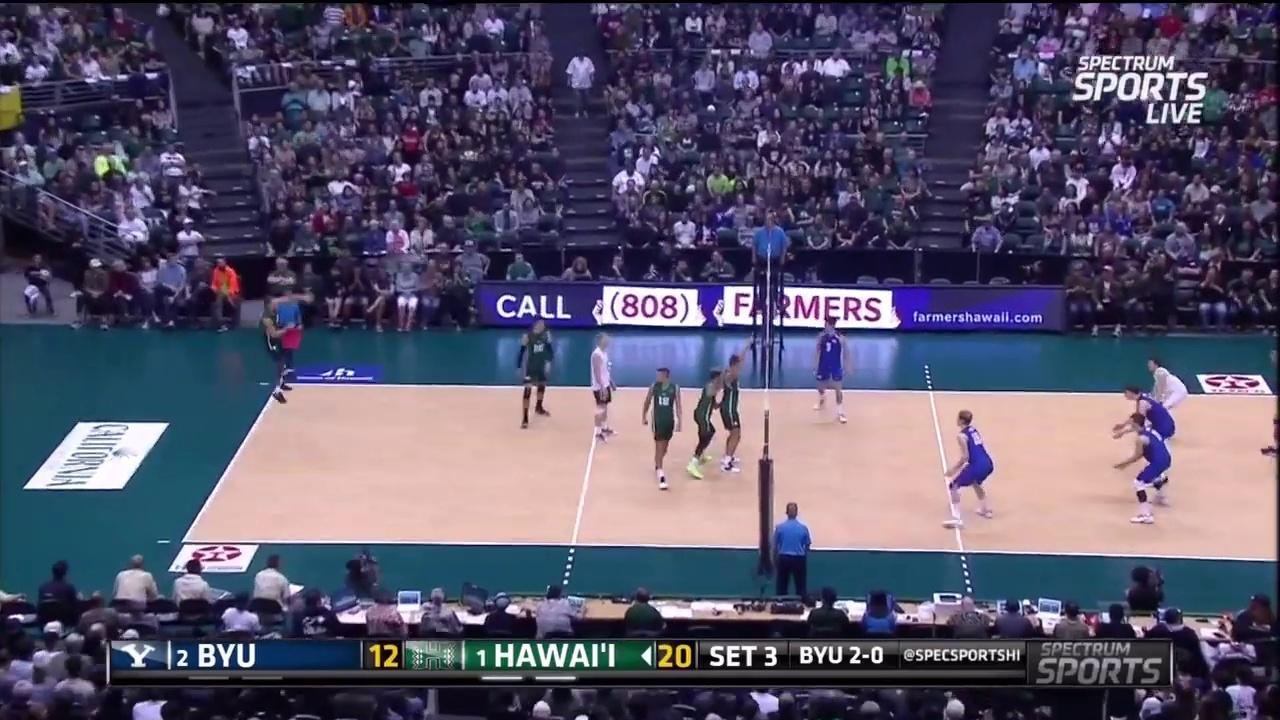player: (1120, 411, 1178, 529), (944, 413, 998, 523), (640, 367, 681, 488), (256, 292, 297, 407), (1117, 382, 1180, 456), (517, 321, 554, 428), (1133, 351, 1192, 418), (813, 317, 848, 419), (691, 365, 721, 479), (725, 348, 751, 473), (587, 338, 616, 436)
refree: (744, 204, 790, 306), (771, 498, 815, 593), (278, 286, 303, 381)
